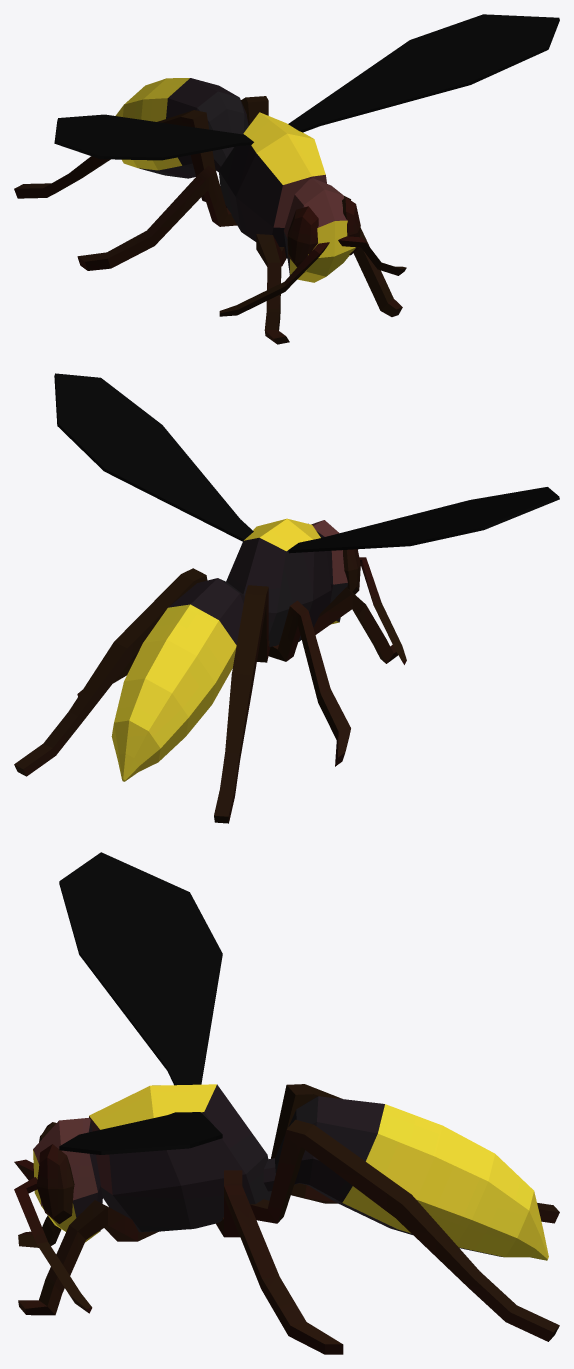
The model's file is 6h7-AWppj5e.glb.
3 renders of one model, top to bottom at view 1: azimuth 30°, elevation 25°; view 2: azimuth 150°, elevation 25°; view 3: azimuth 270°, elevation 25°, orthographic. The views are drawn at different scales.
Parts seen in each view (by area): view 1: Geo_Hornet; view 2: Geo_Hornet; view 3: Geo_Hornet.
Boxes of the visible parts, x1,y1,x2,y2 form: Geo_Hornet: [14, 14, 559, 344]; Geo_Hornet: [14, 373, 559, 823]; Geo_Hornet: [14, 852, 559, 1354].
Size of the model in its own units: 2.32 by 0.9999 by 1.78.
Materials: 2 (1 with a texture image).
